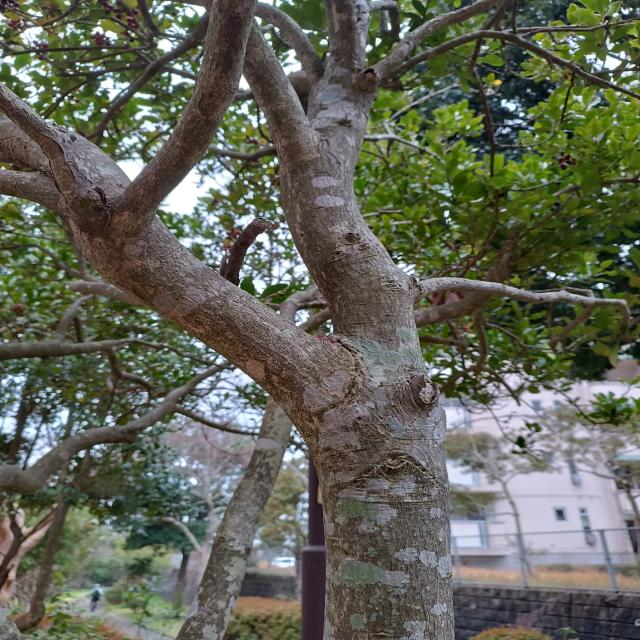Branch: (62, 205, 343, 428), (278, 70, 421, 361)
Twig: (117, 0, 257, 207), (394, 30, 640, 98), (0, 86, 104, 215), (418, 277, 629, 333), (372, 0, 505, 84), (243, 19, 312, 163), (253, 1, 322, 82), (322, 0, 370, 65), (0, 169, 64, 213)
